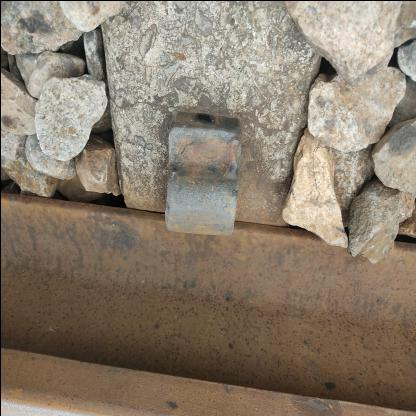Defective: (129, 142, 288, 343)
